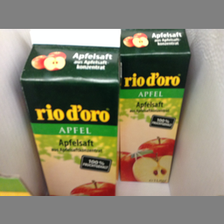juice: (20, 29, 119, 195), (116, 30, 191, 183)
